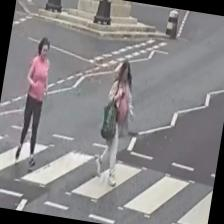person: (92, 57, 143, 188), (13, 36, 56, 170)
